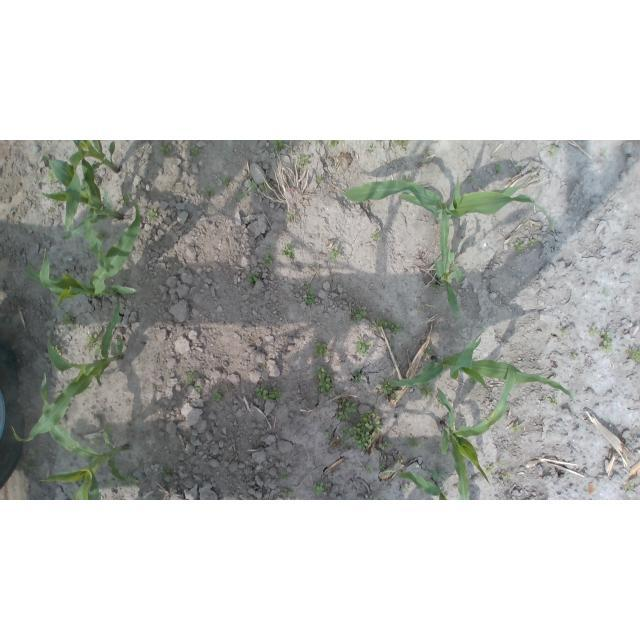Maize: (13, 296, 123, 444), (38, 372, 139, 501), (384, 333, 574, 401), (344, 172, 554, 232), (28, 199, 140, 310), (438, 364, 514, 500), (38, 154, 124, 242), (433, 204, 463, 316), (65, 140, 119, 184), (399, 468, 448, 500)
Weeds: (342, 423, 373, 452), (313, 365, 335, 395), (360, 408, 384, 435), (336, 397, 358, 421), (255, 386, 283, 402), (375, 319, 403, 334), (236, 183, 256, 201), (379, 381, 397, 398), (600, 331, 612, 353), (355, 340, 371, 356), (352, 308, 368, 323), (311, 481, 325, 497), (21, 459, 36, 473), (87, 333, 98, 352), (260, 252, 273, 267), (283, 244, 296, 259), (212, 388, 224, 404), (353, 368, 365, 384), (96, 230, 112, 242), (629, 347, 640, 364), (420, 382, 432, 397), (160, 464, 173, 477), (314, 342, 326, 356), (394, 141, 409, 152), (329, 247, 340, 262), (305, 291, 316, 306), (408, 436, 420, 449), (248, 272, 260, 285), (186, 371, 198, 383), (273, 140, 285, 152), (45, 172, 56, 185), (161, 144, 172, 157), (544, 397, 558, 407), (548, 144, 559, 156), (62, 312, 73, 324), (382, 437, 392, 450), (123, 193, 132, 207), (493, 161, 503, 173), (148, 208, 158, 220), (258, 182, 268, 194), (468, 375, 476, 389), (223, 176, 233, 187), (299, 155, 310, 165), (515, 239, 524, 251), (202, 188, 214, 197), (558, 326, 568, 336), (286, 212, 296, 222), (371, 231, 381, 241), (589, 326, 600, 335), (432, 281, 441, 292), (53, 345, 62, 356), (191, 145, 200, 156), (323, 428, 333, 437), (600, 149, 608, 160), (329, 140, 340, 148), (501, 474, 513, 481), (424, 346, 432, 356), (529, 236, 536, 247), (103, 481, 114, 488), (512, 424, 521, 432), (401, 174, 410, 182), (280, 472, 288, 481), (284, 490, 292, 499), (497, 459, 505, 467), (626, 484, 635, 491), (486, 465, 495, 472), (304, 282, 310, 292), (437, 396, 444, 404), (570, 352, 577, 360), (366, 465, 373, 473), (92, 441, 100, 448), (402, 190, 410, 196), (195, 385, 201, 392), (379, 465, 385, 472), (467, 177, 473, 184), (316, 175, 322, 182), (368, 147, 374, 154), (72, 326, 80, 330), (529, 168, 535, 173), (45, 209, 51, 214), (310, 265, 315, 270), (377, 497, 384, 500)
